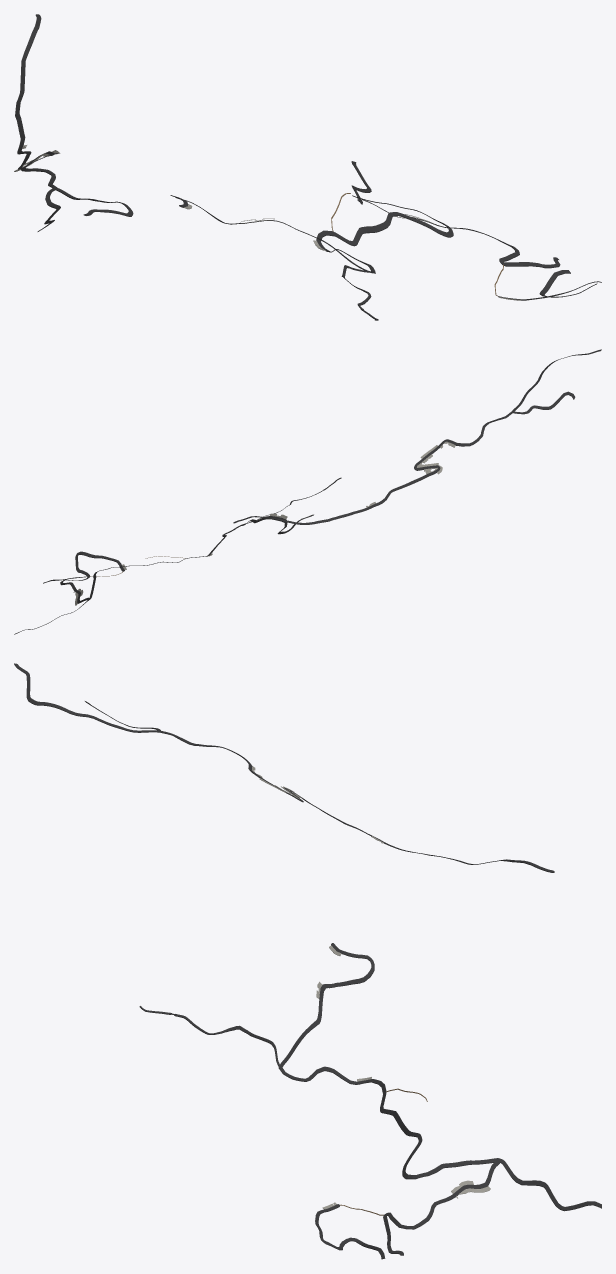
File: 15-27367-14875.572c3fdd.glb
The picture shows the model from 3 angles, top to bottom: view 1: azimuth 30°, elevation 25°; view 2: azimuth 150°, elevation 25°; view 3: azimuth 270°, elevation 25°; orthographic projection. The views are drawn at different scales.
Size of the model in its own units: 1173 by 632 by 1053.
